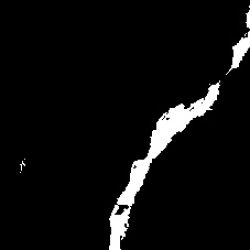crack: (107, 81, 222, 246), (227, 8, 248, 77)
pinhole: (18, 156, 31, 177)
